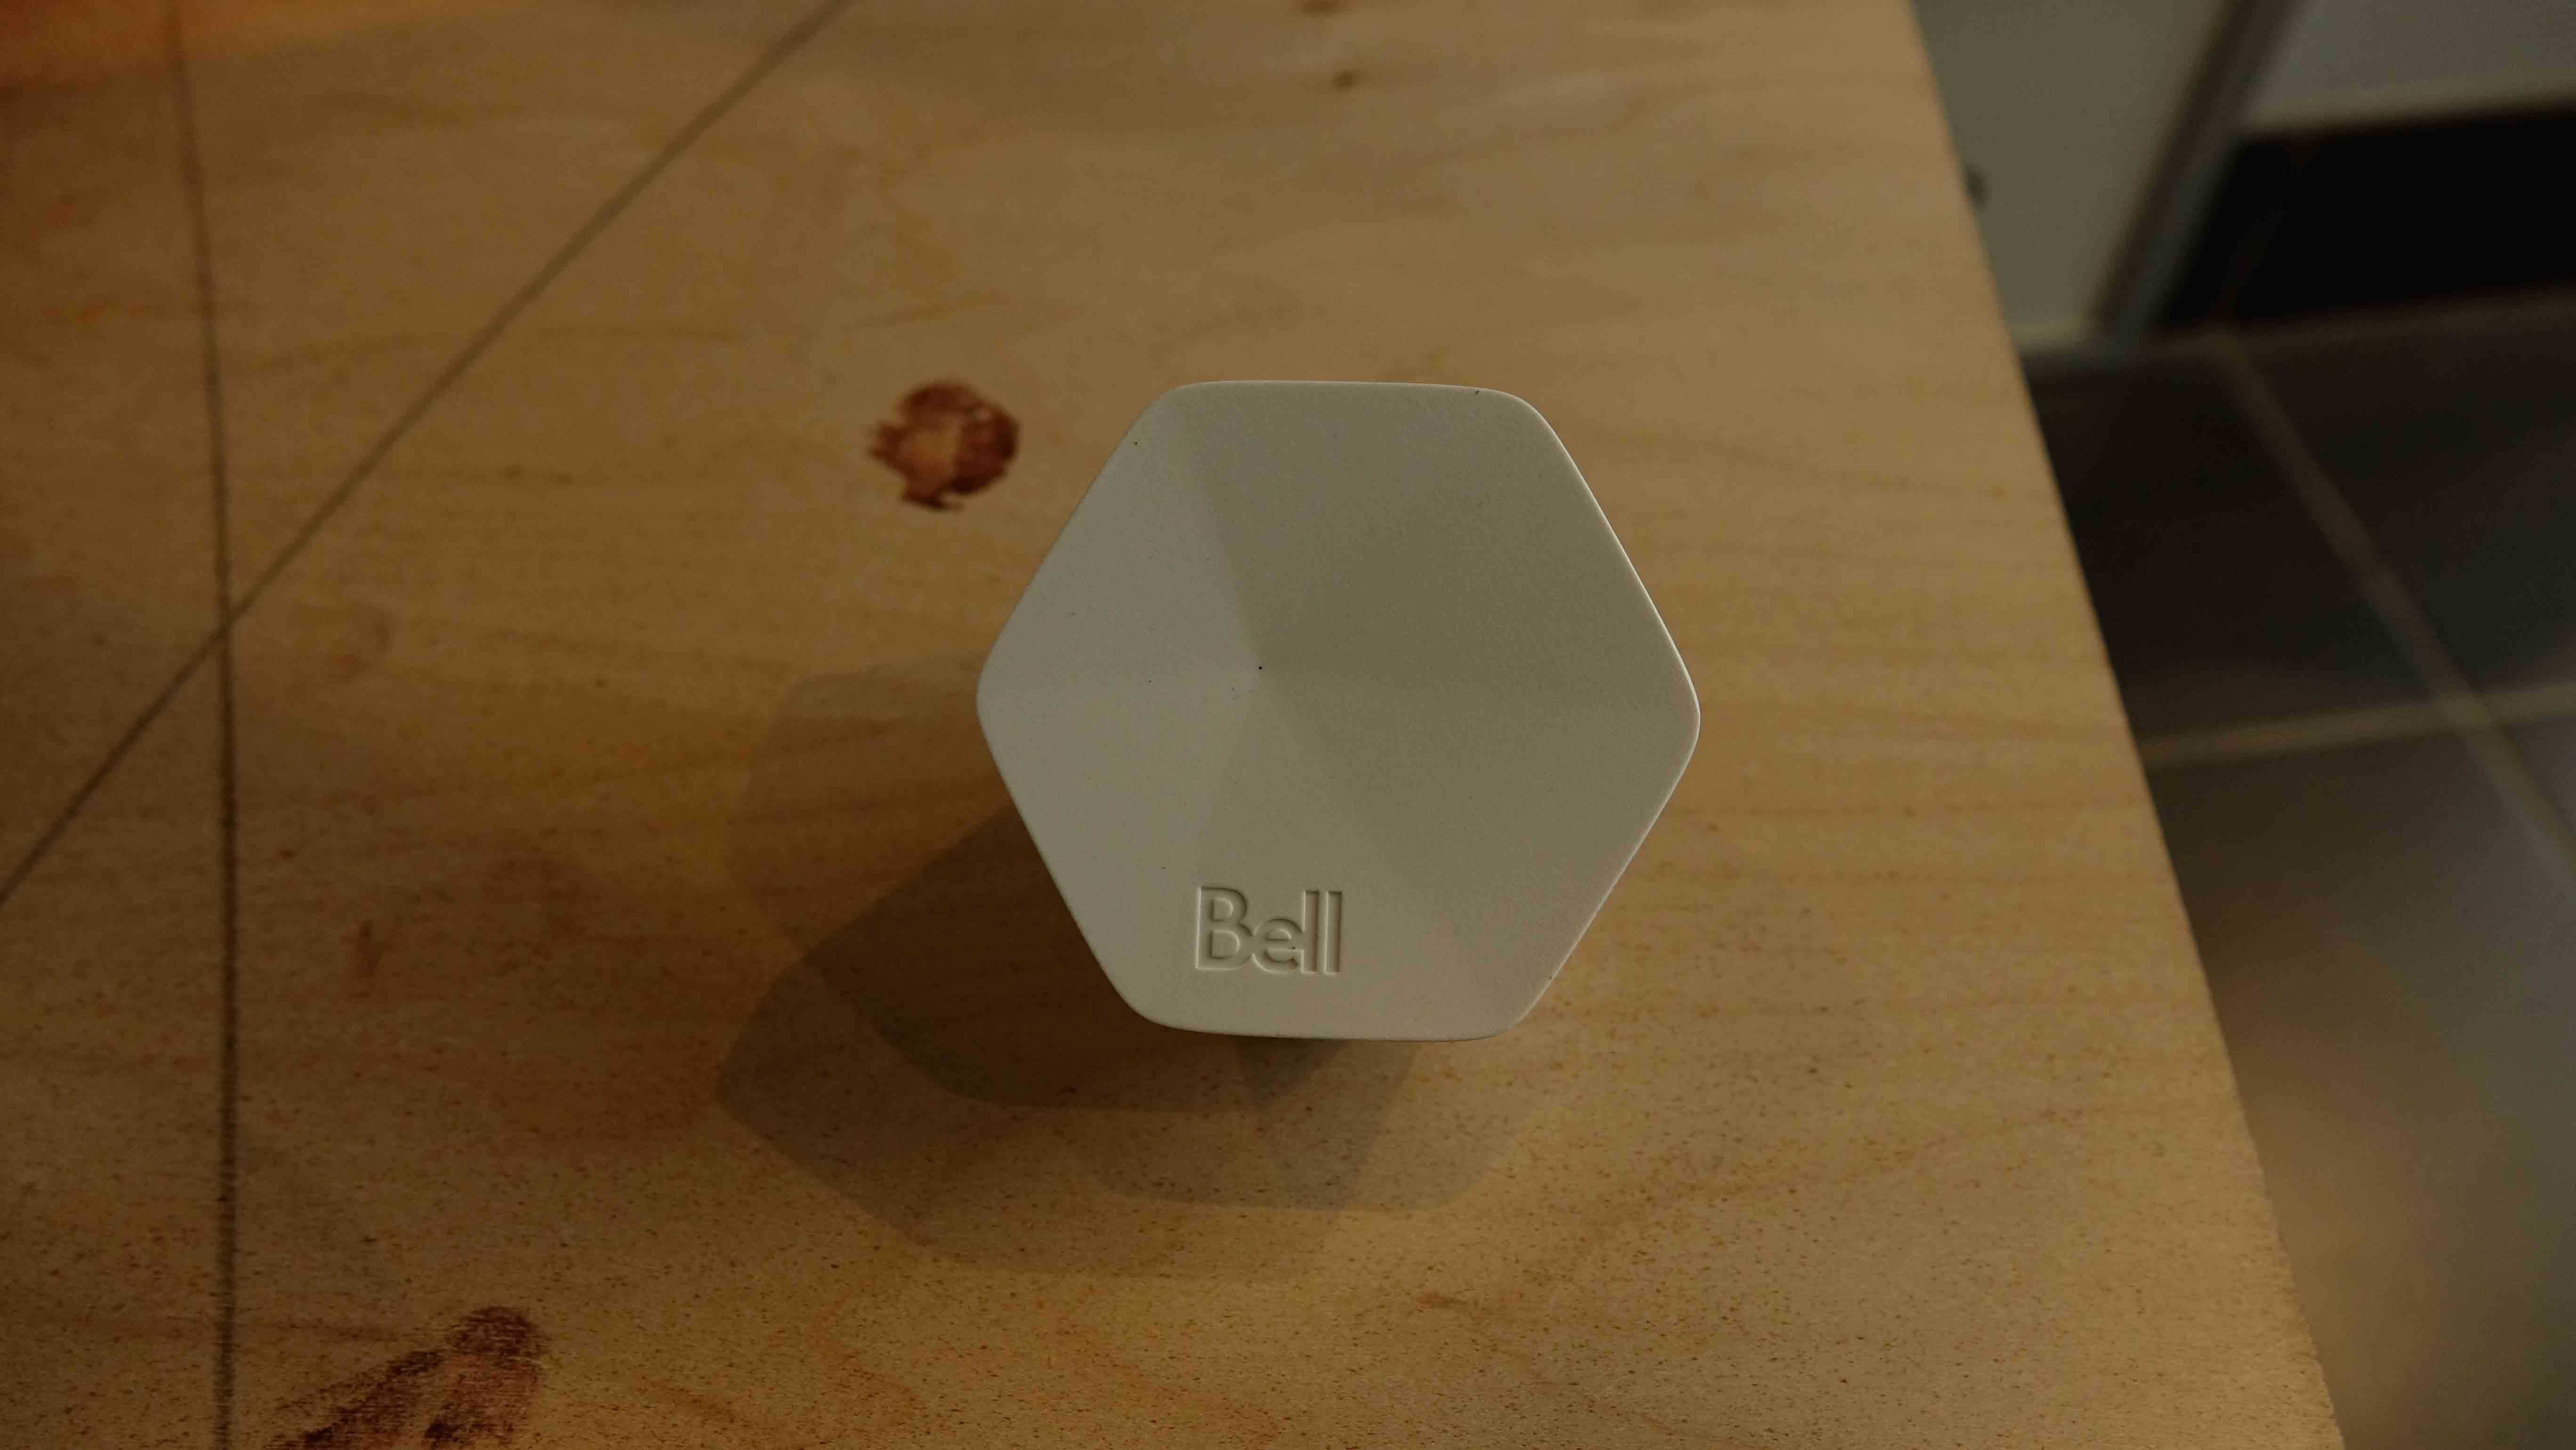pod: (962, 370, 1730, 1068)
